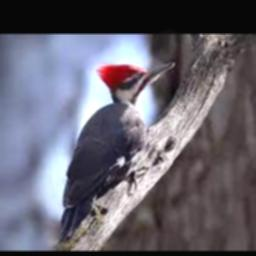Woodpecker: (59, 62, 174, 241)
